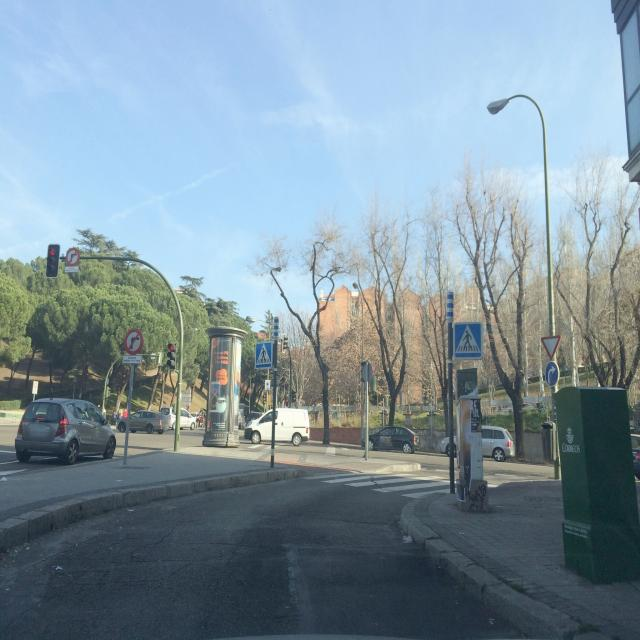car: (15, 397, 116, 465), (438, 424, 513, 462), (243, 406, 311, 446), (362, 424, 420, 454), (119, 410, 165, 434), (160, 406, 196, 430), (632, 443, 640, 479)
